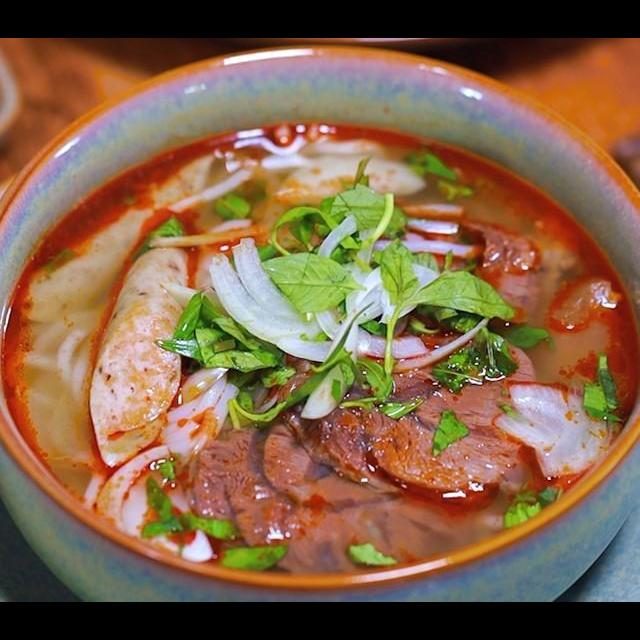bun: (72, 357, 253, 567), (10, 293, 111, 466), (340, 194, 491, 268)
bun bo: (0, 67, 612, 561)
thit bo: (223, 419, 492, 582), (272, 352, 529, 513), (404, 370, 623, 483), (181, 421, 320, 583), (256, 392, 410, 517), (441, 207, 582, 334)
